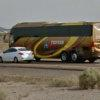Bus: (9, 18, 100, 59)
